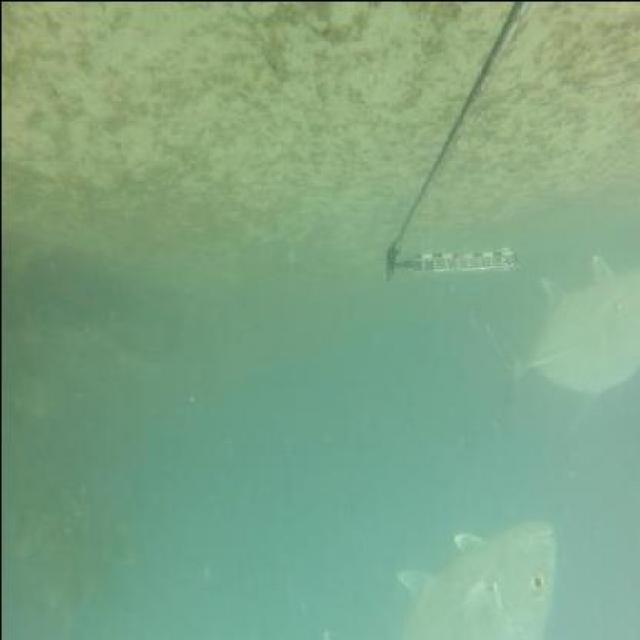Caranx: (482, 251, 638, 432), (385, 513, 557, 638)
